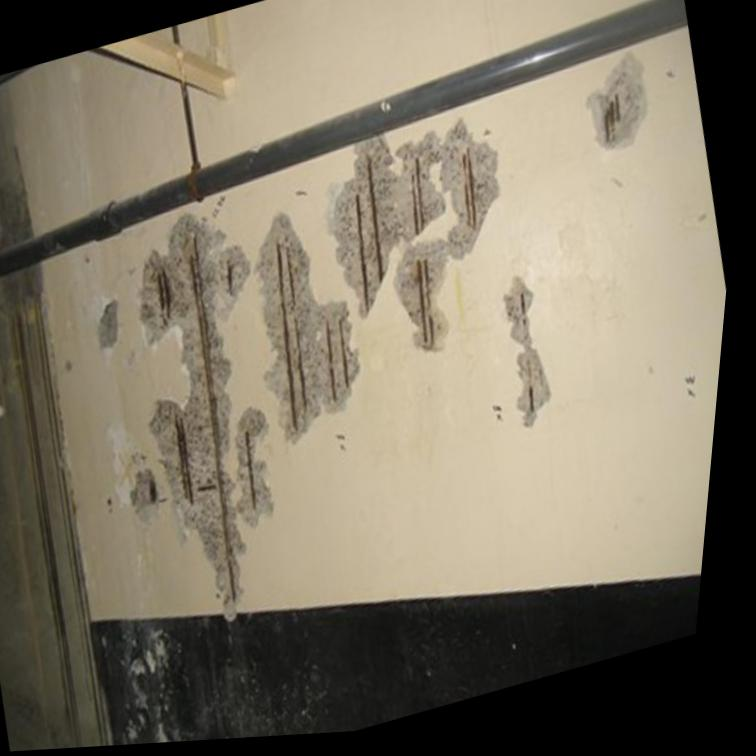damage: (143, 216, 257, 624), (334, 128, 506, 358), (263, 217, 369, 448), (509, 283, 559, 436), (587, 61, 651, 157), (245, 412, 284, 531), (143, 471, 179, 527), (101, 301, 128, 352)
